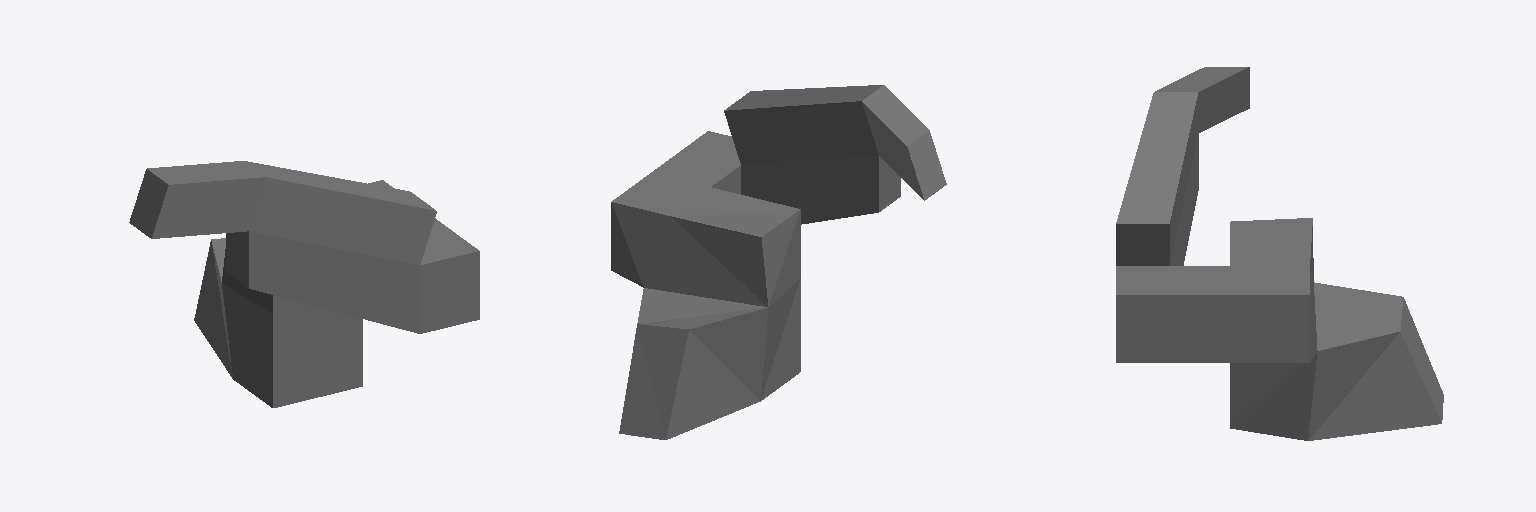
3 views of the same model, side by side, from view 1: azimuth 30°, elevation 25°; view 2: azimuth 150°, elevation 25°; view 3: azimuth 270°, elevation 25° (orthographic).
Visible parts, largest first — view 1: myMesh_Cube.001; view 2: myMesh_Cube.001; view 3: myMesh_Cube.001.
Part boxes in pixels (bbox=[...]): myMesh_Cube.001: bbox=[129, 161, 479, 407]; myMesh_Cube.001: bbox=[611, 85, 946, 439]; myMesh_Cube.001: bbox=[1116, 67, 1443, 440].
Size of the model in its own units: 6.29 by 5.86 by 6.31.